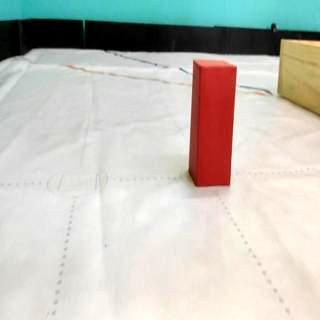redbox: (188, 58, 238, 188)
